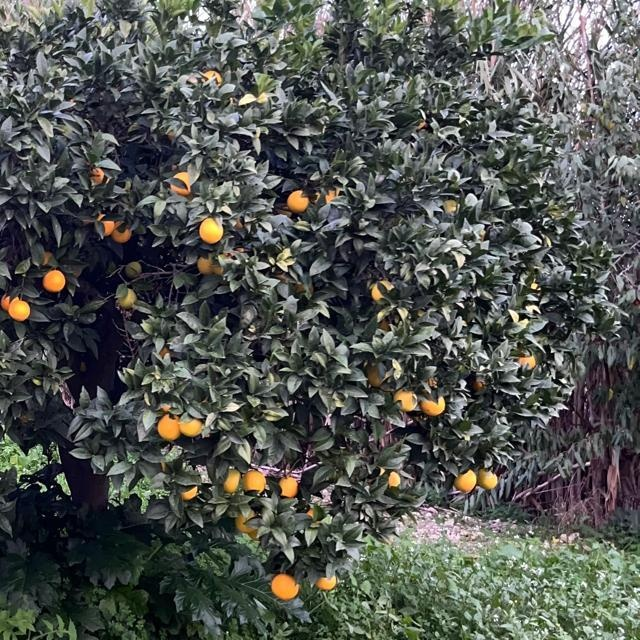orange: (269, 571, 299, 599), (1, 292, 31, 318), (198, 215, 224, 241), (169, 168, 193, 196), (364, 361, 388, 387), (235, 510, 259, 536), (41, 267, 65, 291), (454, 468, 478, 492), (194, 66, 222, 86), (421, 394, 445, 416), (157, 414, 179, 438), (285, 188, 307, 212), (395, 389, 417, 413), (440, 195, 462, 217), (394, 388, 416, 410), (322, 183, 344, 205), (286, 188, 306, 212), (244, 470, 264, 494), (87, 162, 107, 186), (315, 571, 339, 591), (223, 468, 241, 494), (180, 416, 202, 436), (478, 466, 498, 488), (116, 286, 136, 308), (384, 467, 404, 489), (279, 476, 299, 496), (372, 281, 392, 299), (113, 222, 129, 240), (197, 256, 213, 274), (124, 259, 140, 275), (518, 355, 534, 371), (181, 484, 199, 498), (99, 215, 113, 233), (40, 252, 54, 264), (214, 259, 226, 273), (305, 512, 319, 524), (473, 379, 487, 391), (299, 281, 311, 295), (161, 404, 173, 410), (162, 347, 170, 355)
